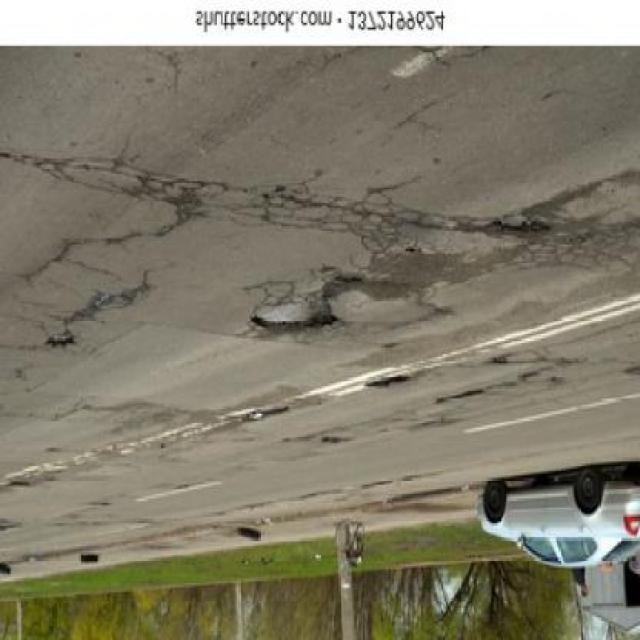Pothole: (246, 270, 357, 332), (487, 209, 558, 239)
